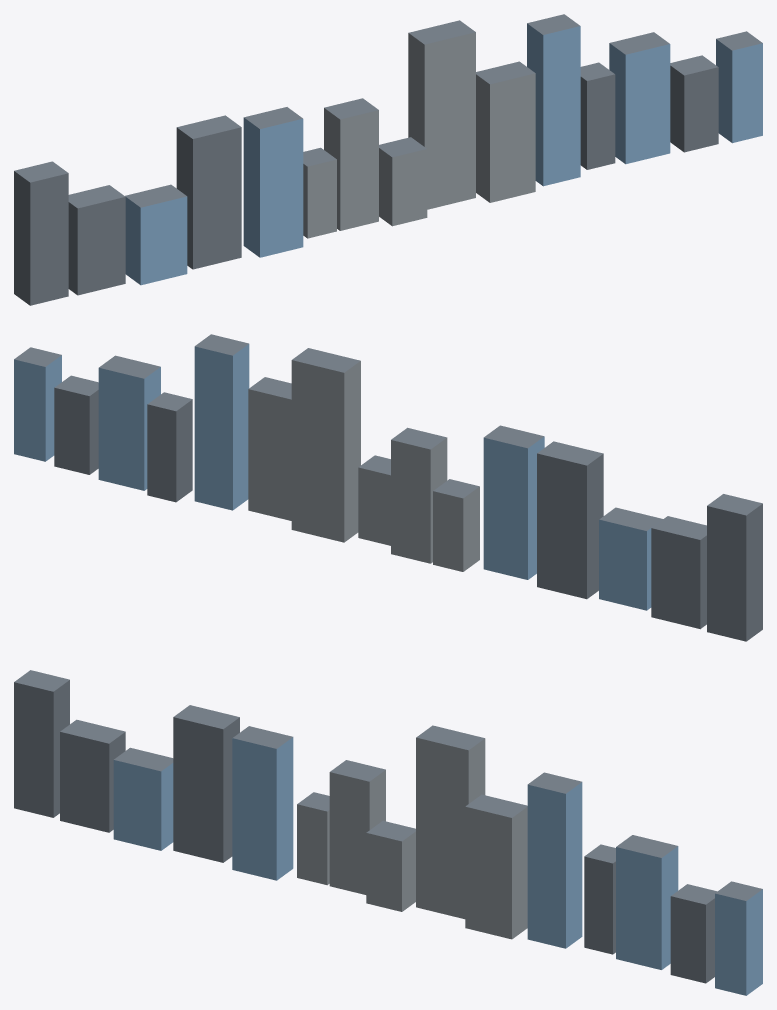
Rendered from skyline.fbx.
3 renders of one model, top to bottom at view 1: azimuth 30°, elevation 25°; view 2: azimuth 150°, elevation 25°; view 3: azimuth 330°, elevation 25°, orthographic. The views are drawn at different scales.
Visible parts, largest first — view 1: skyline; view 2: skyline; view 3: skyline.
Part boxes in pixels (bbox=[...]): skyline: bbox=[14, 14, 762, 305]; skyline: bbox=[14, 334, 762, 641]; skyline: bbox=[14, 670, 762, 995].
Bounding box in the file's own units: 155 × 33.91 × 9.58.
